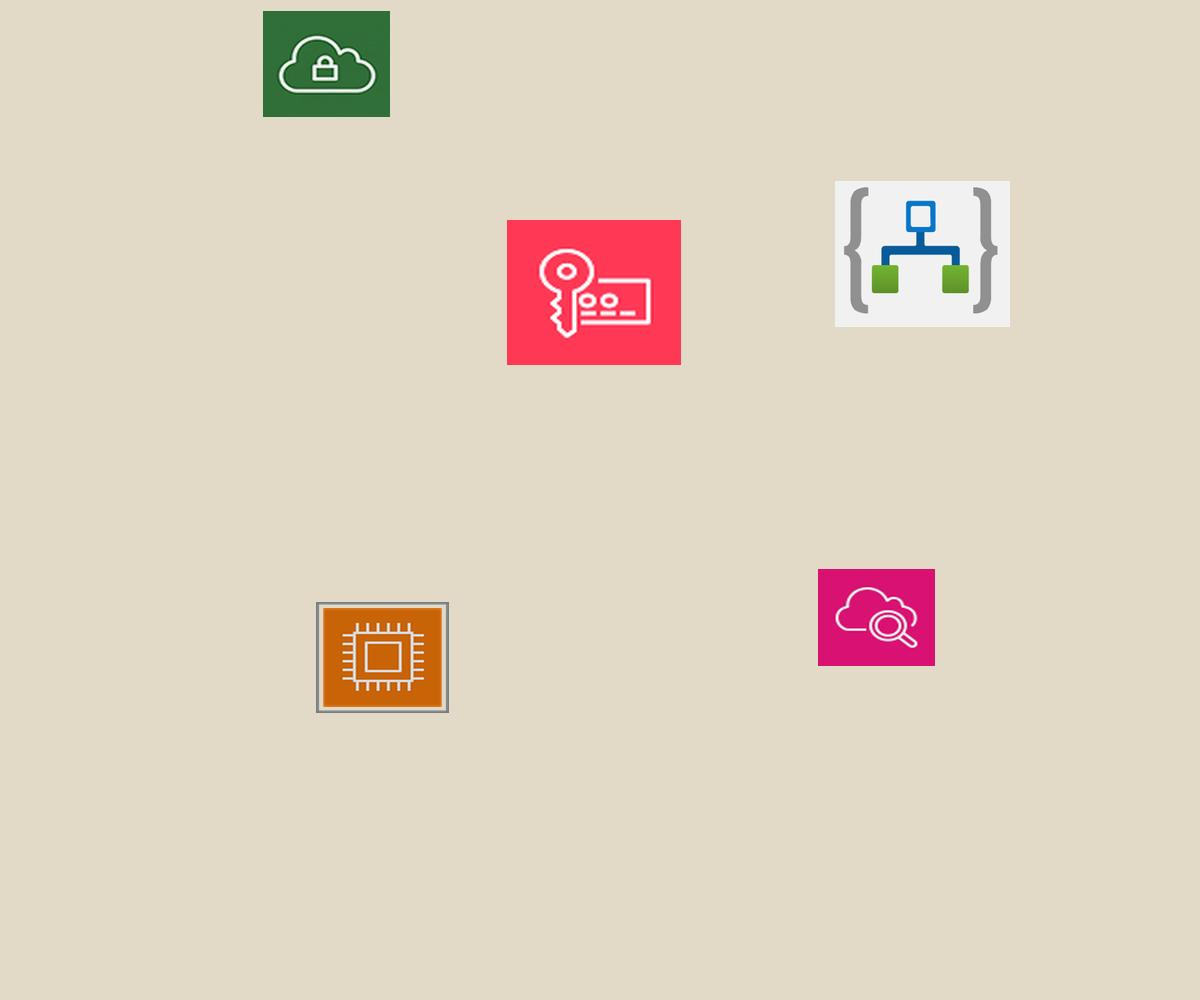AWS-Category_Compute: (316, 602, 449, 713)
AWS-CloudWatch: (818, 569, 935, 666)
AWS-Key-Management-Service: (507, 220, 681, 365)
AWS-Private_vpc: (263, 11, 390, 117)
Azure_integration-204-Logic-Apps: (835, 181, 1010, 327)
